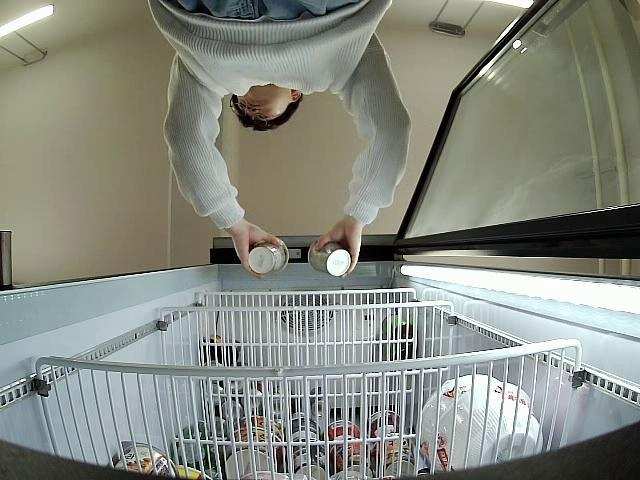04_chapagetti_S: (307, 240, 353, 276), (249, 238, 288, 276)
